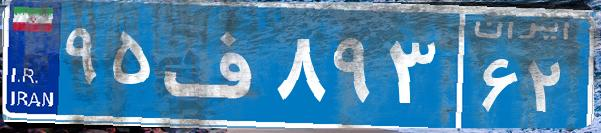2: (525, 38, 570, 115)
3: (385, 28, 445, 110)
5: (110, 28, 158, 105)
6: (475, 38, 525, 113)
8: (273, 28, 330, 110)
9: (330, 28, 385, 110), (57, 26, 110, 107)
ف: (158, 15, 273, 115)
